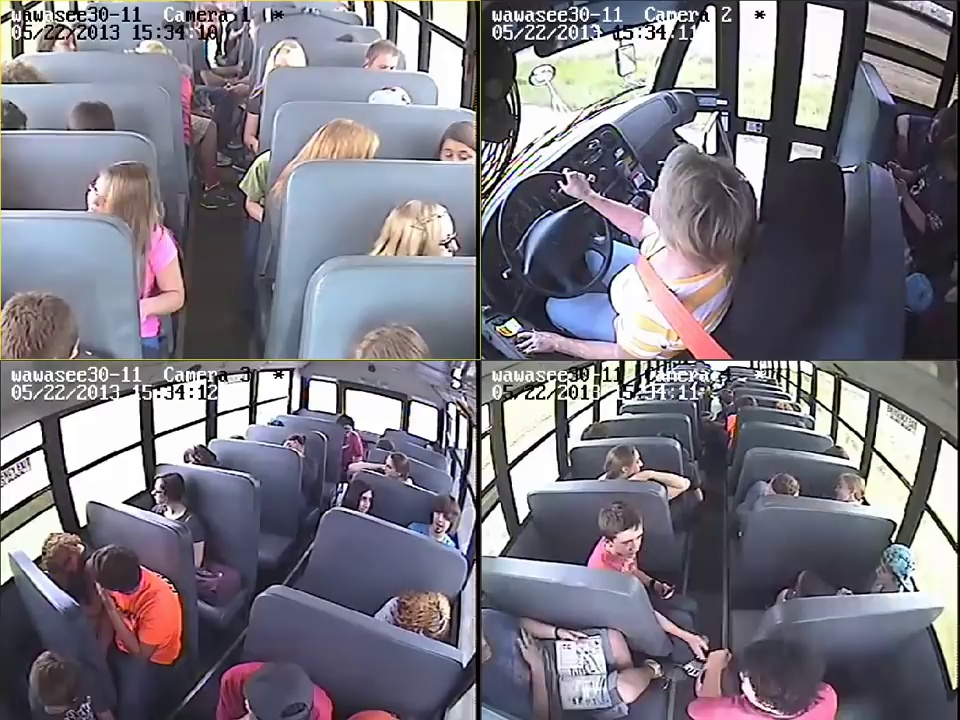face: (86, 169, 120, 216), (422, 215, 458, 257), (614, 523, 641, 560), (617, 450, 647, 480), (150, 476, 173, 515), (441, 133, 469, 160), (380, 454, 403, 478), (352, 490, 373, 514), (432, 509, 450, 534)
